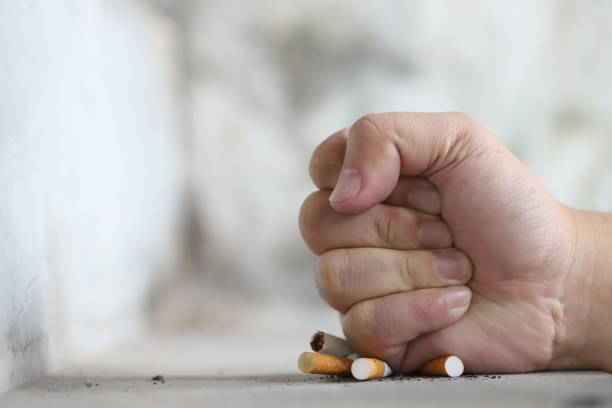cigarette: (297, 351, 354, 376), (309, 330, 351, 355), (420, 354, 464, 377), (351, 358, 393, 380)
